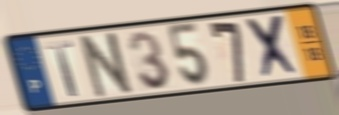3: (126, 28, 173, 92)
5: (164, 20, 212, 90)
7: (207, 20, 246, 85)
N: (77, 29, 137, 101)
T: (42, 38, 81, 98)
X: (243, 13, 303, 82)
